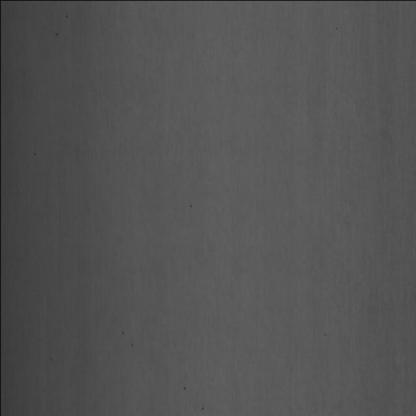inclusion: (120, 327, 135, 354), (180, 380, 188, 396), (198, 400, 206, 412)
